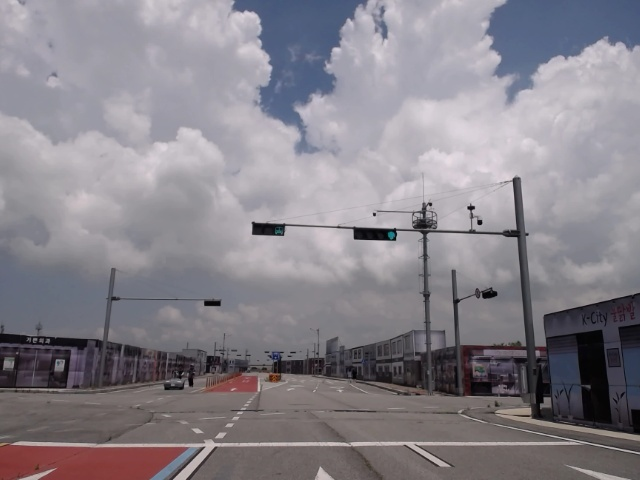straight_green_4: (355, 227, 397, 239)
